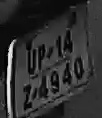0: (72, 55, 85, 81)
1: (54, 33, 64, 61)
4: (62, 29, 77, 56), (60, 62, 75, 87), (37, 75, 50, 101)
9: (47, 69, 62, 96)
P: (37, 43, 46, 70)
U: (25, 48, 37, 75)
Z: (22, 82, 32, 110)
